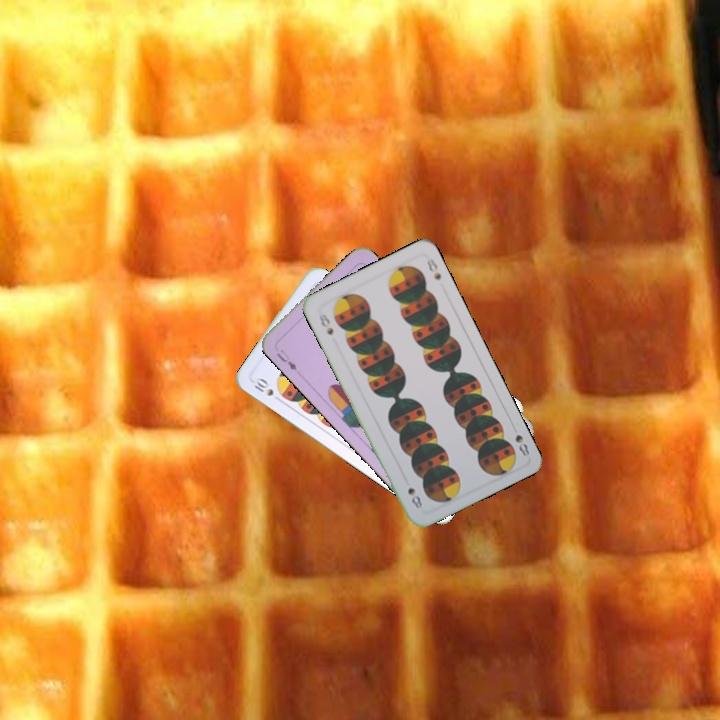EU: (273, 345, 299, 373)
S10: (249, 374, 276, 399)
S8: (508, 420, 532, 459), (315, 309, 336, 338)
